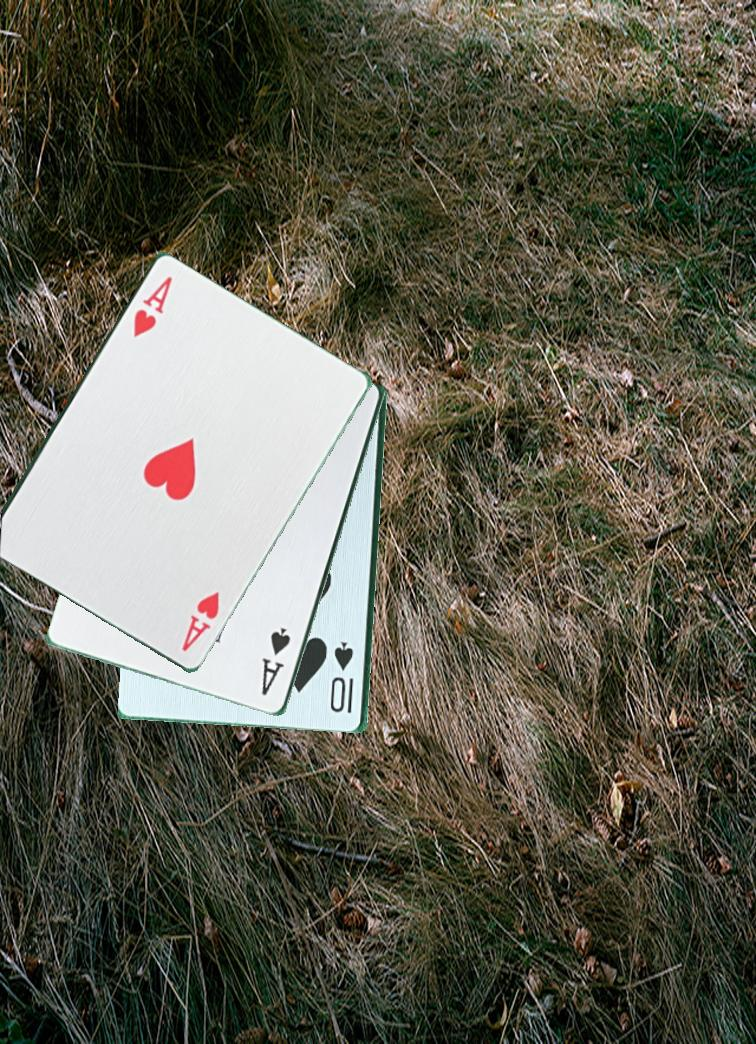ah: (129, 273, 176, 341), (178, 589, 226, 655)
as: (258, 624, 294, 700)
ts: (330, 639, 357, 717)
